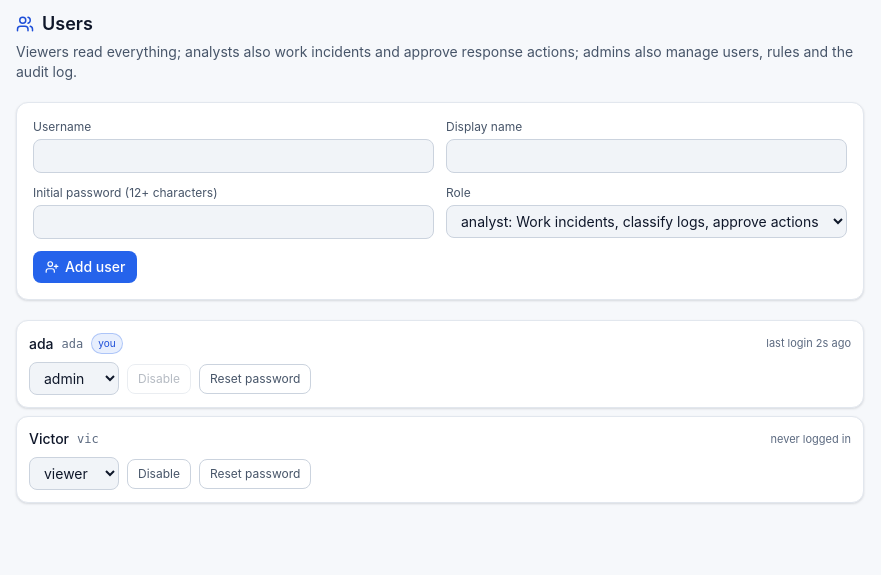
Test: Users page › shows a refused change
Select "viewer" in the dropdown named "Role of ada" below "you": (74, 378) [29,362,119,395]
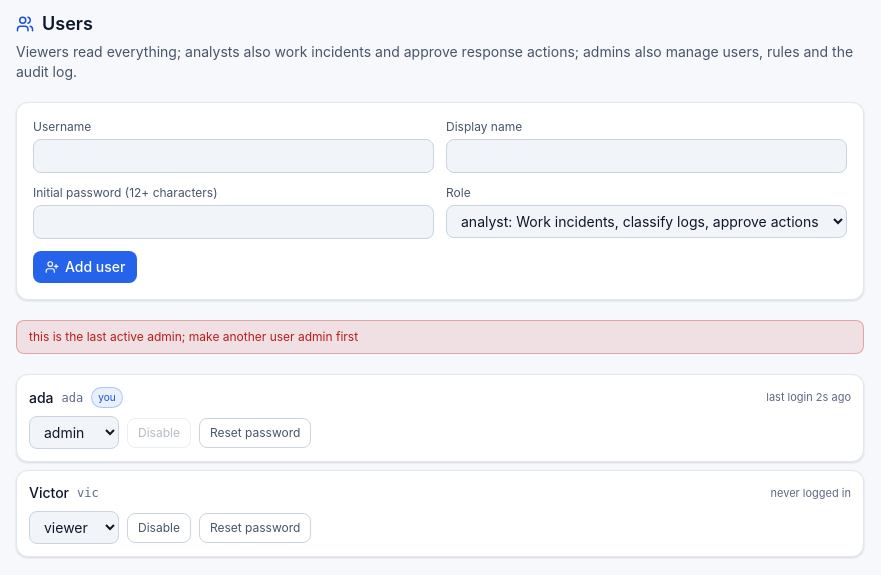
Now the message shows "last active admin", box [29,329,358,344]
